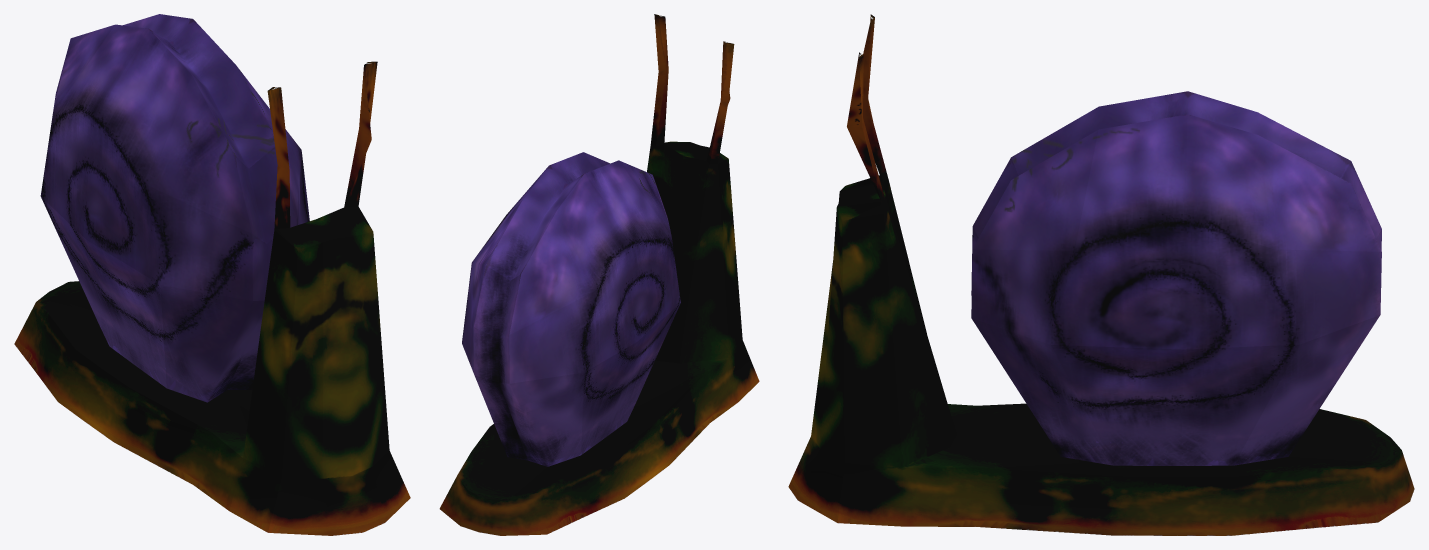
The model's file is Snail_2.glb.
The picture shows the model from 3 angles, left to right: view 1: azimuth 30°, elevation 25°; view 2: azimuth 150°, elevation 25°; view 3: azimuth 270°, elevation 25°; orthographic projection. The views are drawn at different scales.
Parts seen in each view (by area): view 1: Snail_2 Model; view 2: Snail_2 Model; view 3: Snail_2 Model.
Part boxes in pixels (left/top/right/bottom): Snail_2 Model: left=14, top=14, right=410, bottom=535; Snail_2 Model: left=439, top=14, right=759, bottom=535; Snail_2 Model: left=788, top=14, right=1414, bottom=535.
Size of the model in its own units: 23.36 by 52.5 by 65.55.
Materials: 1 (1 with a texture image).
